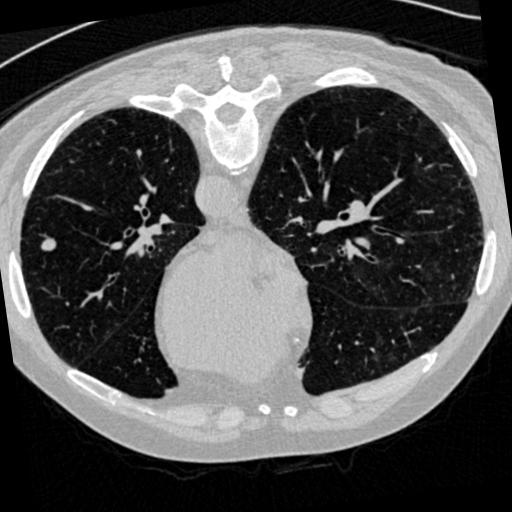nodule: (41, 237, 60, 256)
